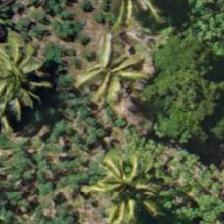coconut_tree: (62, 24, 152, 114), (74, 148, 164, 223), (0, 38, 49, 128)
